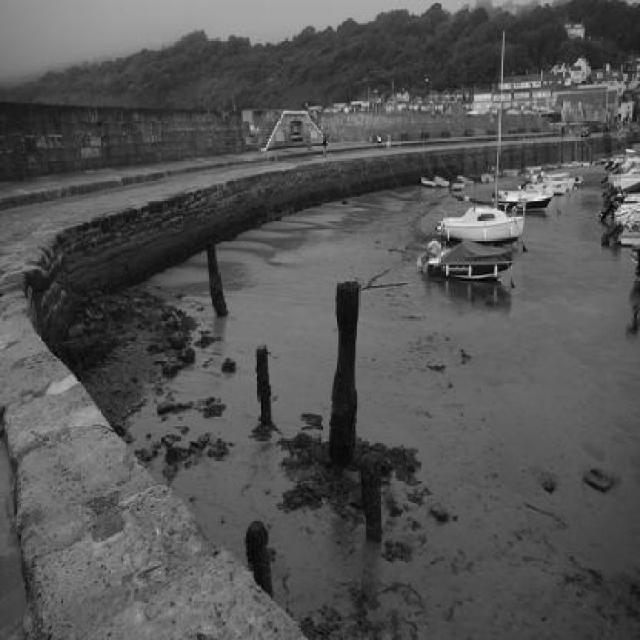ship: (430, 198, 533, 248), (603, 141, 639, 259), (492, 175, 553, 212), (528, 166, 587, 194)
